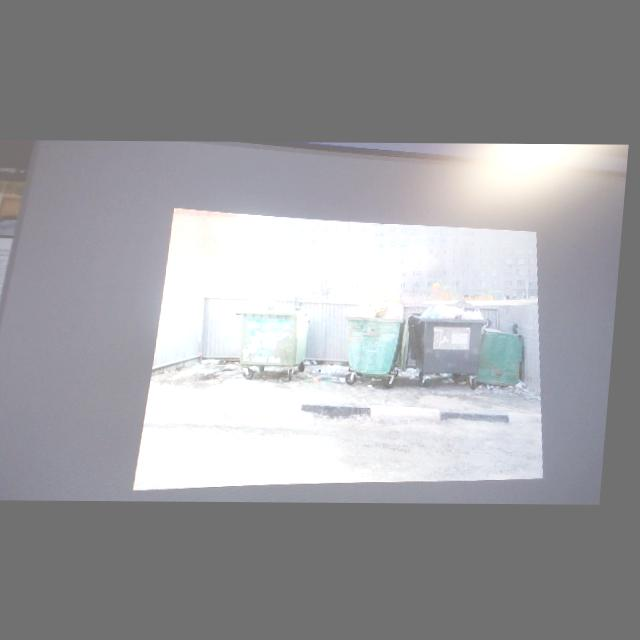Trash_Can_Empty: (239, 306, 316, 366)
Trash_Can_Full: (415, 303, 493, 373), (344, 302, 412, 374)
